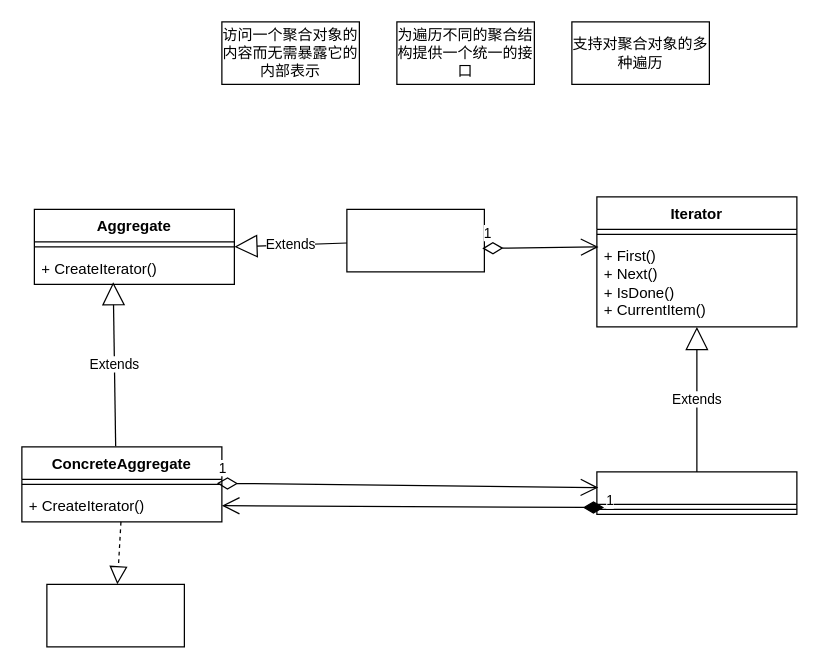
Some shapes in this 819 by 669 pixel diagram are drawn without their labels. The shapes that lost their labels are listed below. From the top down, each one's box as (x1, y1, x2, y2) in pixels, then its label:
(346, 208, 484, 272): Client
(596, 471, 797, 514): ConcreteIterator
(46, 583, 184, 647): return new ConcrateIterator(this)
